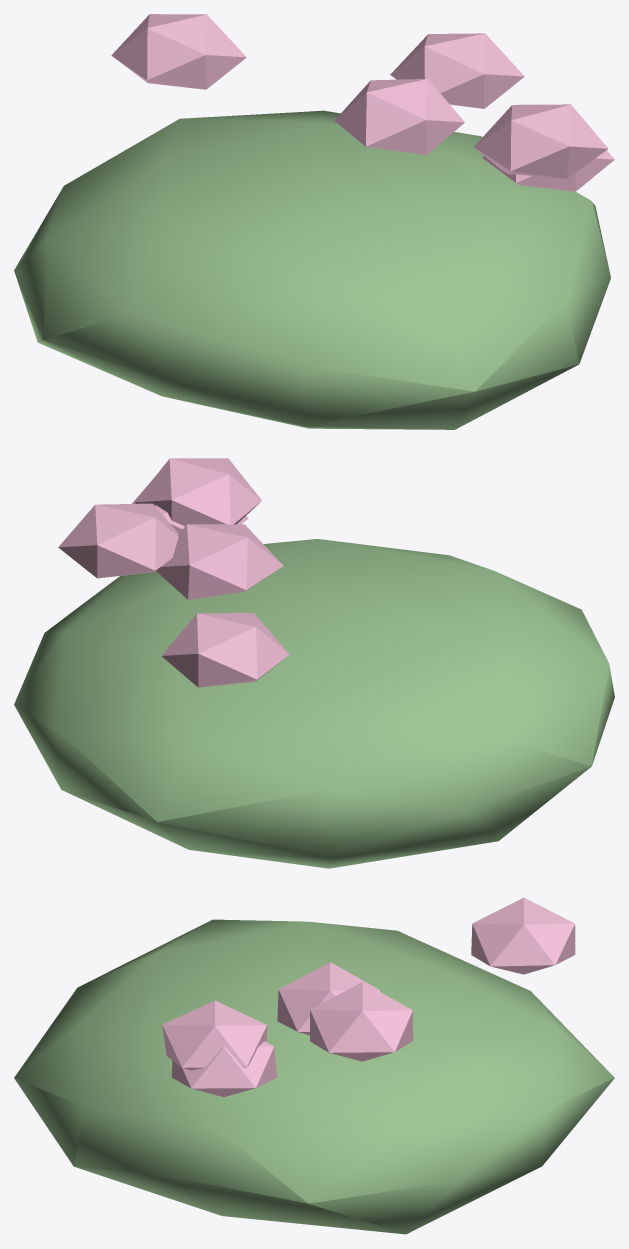
File: flowers.glb
3 renders of one model, top to bottom at view 1: azimuth 30°, elevation 25°; view 2: azimuth 150°, elevation 25°; view 3: azimuth 270°, elevation 25°, orthographic. The views are drawn at different scales.
Visible parts, largest first — view 1: flowers; view 2: flowers; view 3: flowers.
Part boxes in pixels (left/top/right/bottom): flowers: left=14, top=14, right=614, bottom=429; flowers: left=14, top=458, right=614, bottom=868; flowers: left=14, top=897, right=614, bottom=1234.
Size of the model in its own units: 2.17 by 1 by 2.23.
